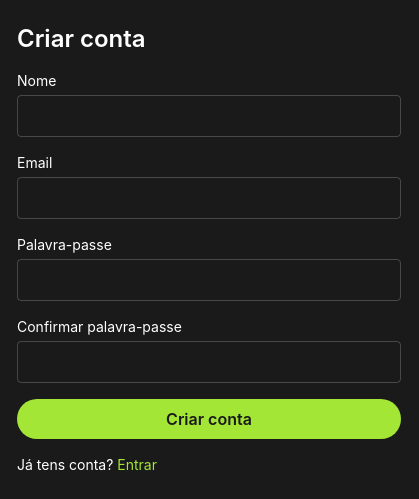
Test case: RegisterPage › shows a field-level error next to the field it belongs to
Type "Lucas" into the field labelled "Nome" at coordinates (209, 116), box [17,95,401,137]
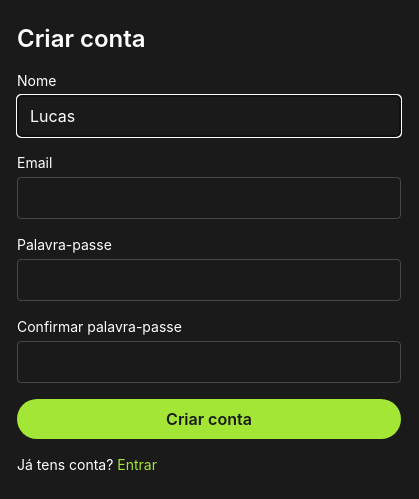
Type "l@e.com" into the field labelled "Email" at coordinates (209, 198), box [17,177,401,219]
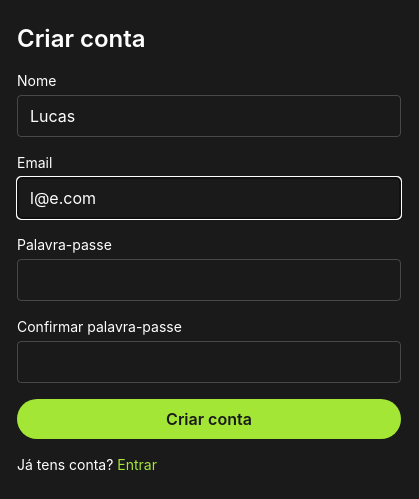
Type "secret123" into the password field labelled "Palavra-passe" at coordinates (209, 280), box [17,259,401,301]
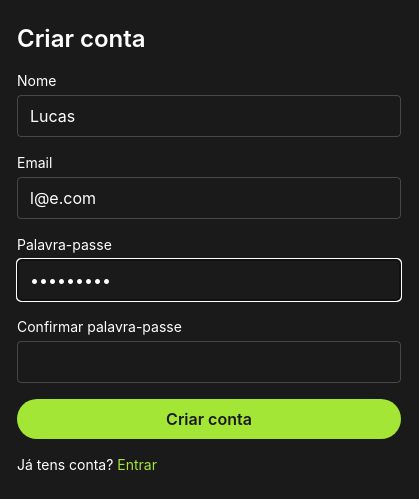
Type "secret123" into the password field labelled "Confirmar palavra-passe" at coordinates (209, 362), box [17,341,401,383]
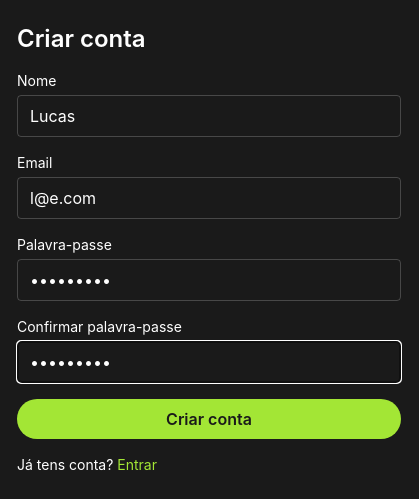
Click the button "Criar conta" at coordinates (209, 419), box [17,399,401,439]
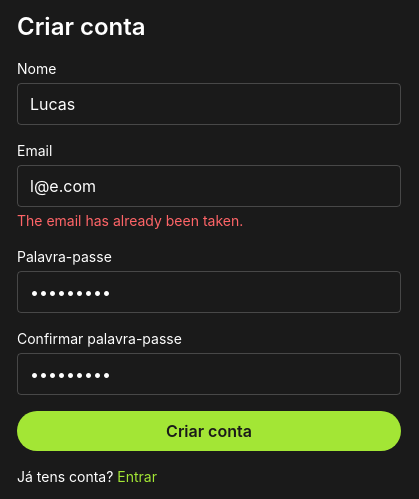
Expected: the message "The email has already been taken." is shown, [17,212,243,229]
